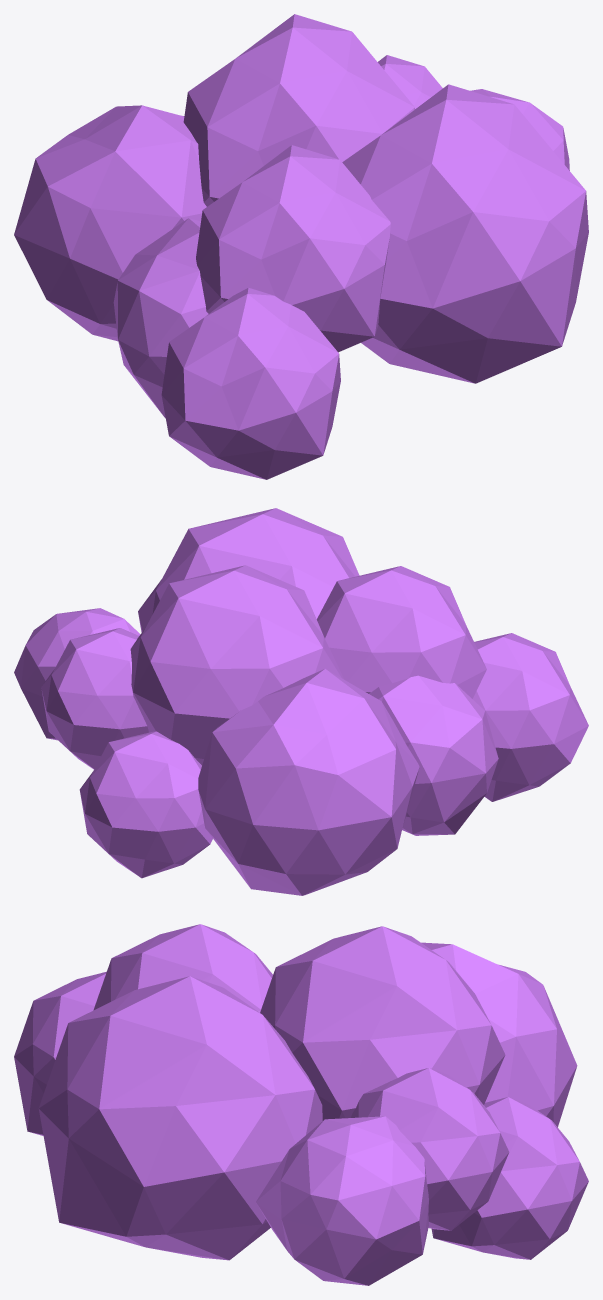
File: Jacaranda.glb
3 views of the same model, one above another, from view 1: azimuth 30°, elevation 25°; view 2: azimuth 150°, elevation 25°; view 3: azimuth 270°, elevation 25° (orthographic). The views are drawn at different scales.
Visible parts, largest first — view 1: 棱角球.001; view 2: 棱角球.001; view 3: 棱角球.001.
Part boxes in pixels (x1,y1,x2,y2): 棱角球.001: [14, 14, 588, 479]; 棱角球.001: [14, 508, 588, 895]; 棱角球.001: [14, 924, 588, 1285].
Bounding box in the file's own units: 7.16 × 4.27 × 6.79.
